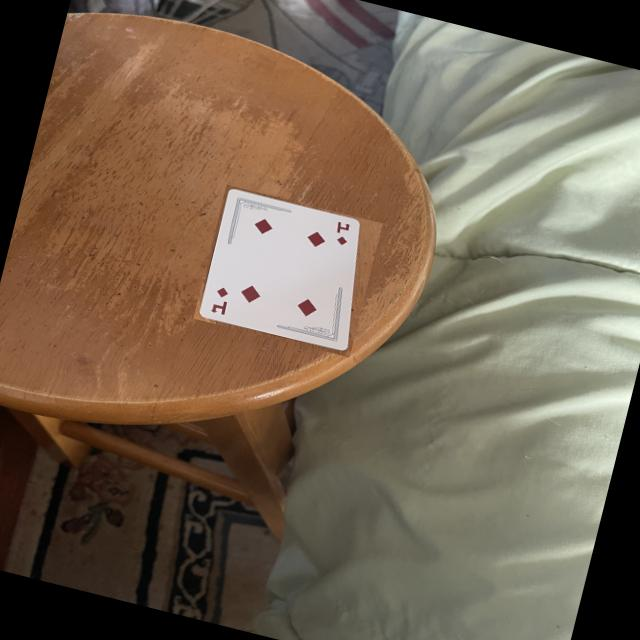4 of diamonds: (198, 187, 363, 353)
